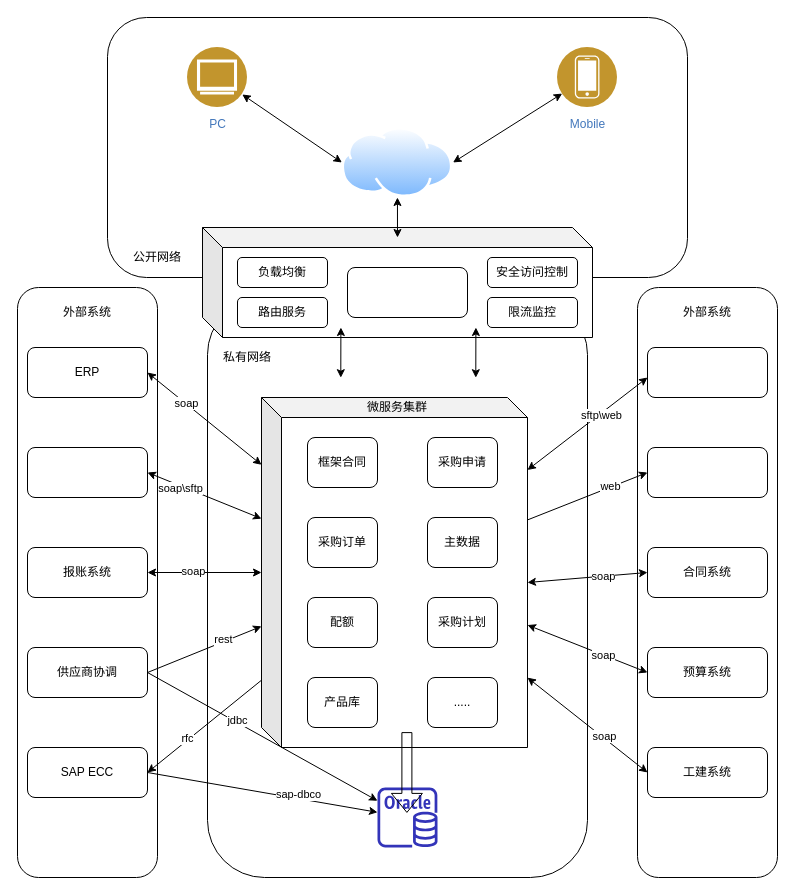
Image size: 795x895. Some labels were removed from this diagram. The shapes that lost their labels are listed below. From the top down, each one's centre as x and y in pixels, then its label:
At (x=396, y=162): "Internet".
At (x=407, y=292): "API网关".
At (x=707, y=372): "统一信息服务".
At (x=87, y=472): "ES系统".
At (x=707, y=472): "电商平台".
At (x=407, y=817): "SCM数据库".
